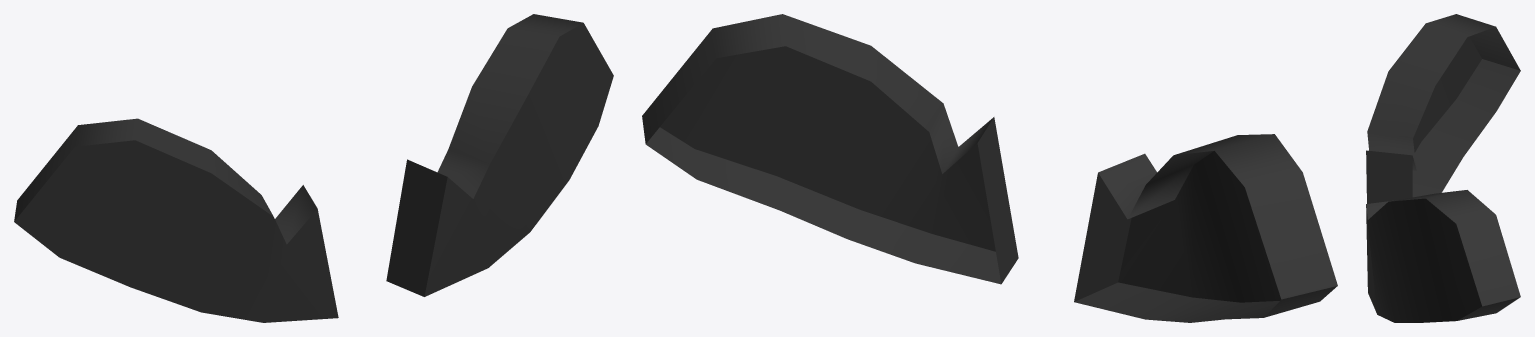
Rendered from Brow_Black_10.fbx.
3 views of the same model, side by side, from view 1: azimuth 30°, elevation 25°; view 2: azimuth 150°, elevation 25°; view 3: azimuth 270°, elevation 25° (orthographic). The views are drawn at different scales.
Visible parts, largest first — view 1: Brow_Black_10; view 2: Brow_Black_10; view 3: Brow_Black_10.
Boxes of the visible parts, <box> form: Brow_Black_10: <box>14,14,613,322</box>; Brow_Black_10: <box>642,14,1337,322</box>; Brow_Black_10: <box>1366,14,1520,322</box>.
Bounding box in the file's own units: 40.26 × 12.48 × 10.64.
